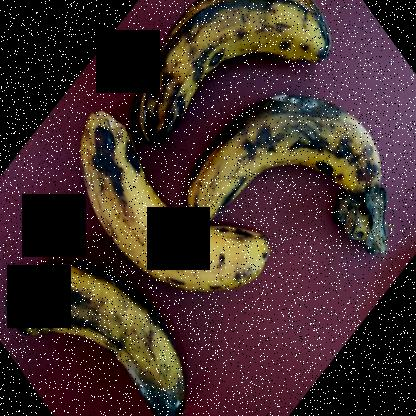overripe: (74, 100, 286, 305)
rotten: (120, 1, 340, 143), (1, 268, 203, 415), (186, 98, 402, 229)
